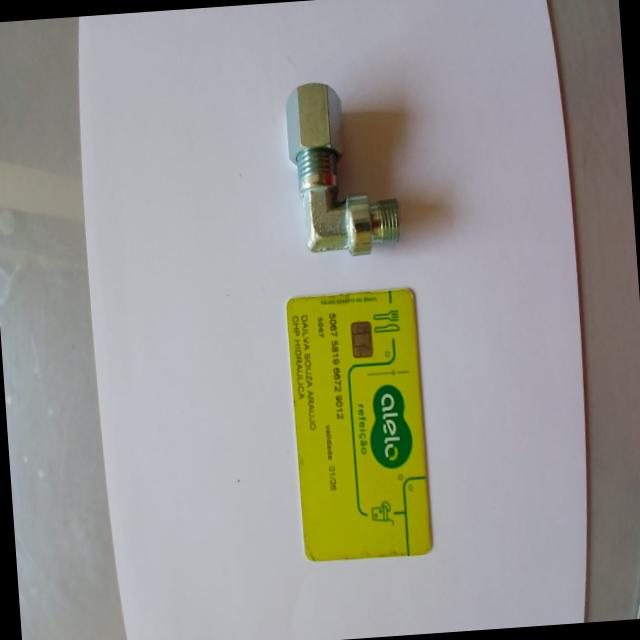cartao: (286, 285, 432, 561)
rosca_externa: (282, 76, 402, 262)
